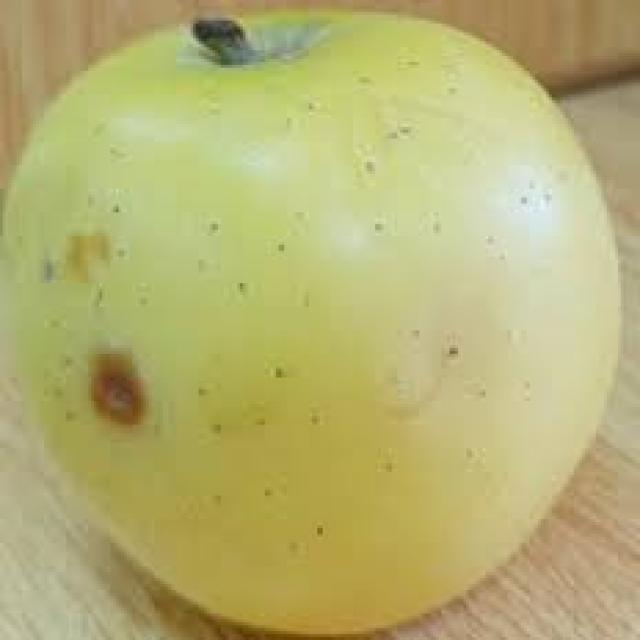Rotten Apple: (0, 7, 614, 627)
